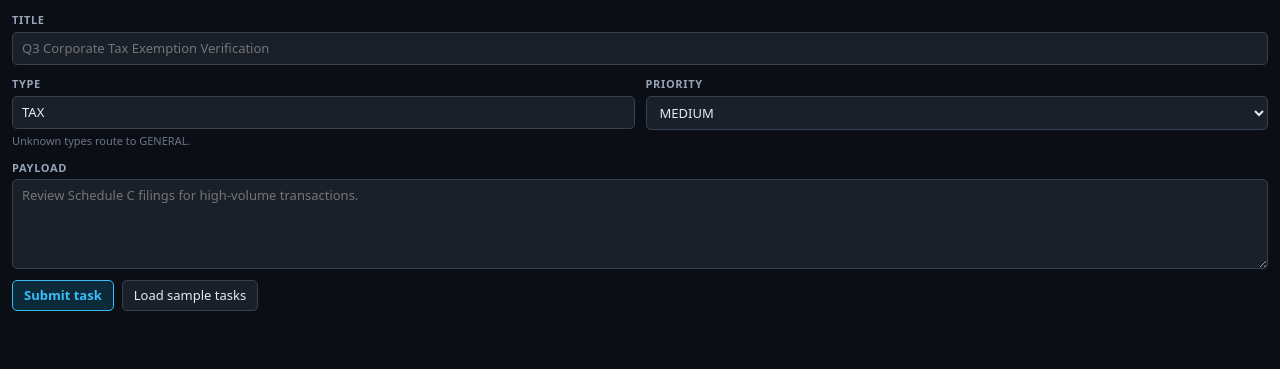
Test: TaskForm - per-field API errors › clears a field error as soon as the user edits that field
Click the button "Submit task" at point(63, 295), box top-left (12, 280), bottom-right (114, 311)
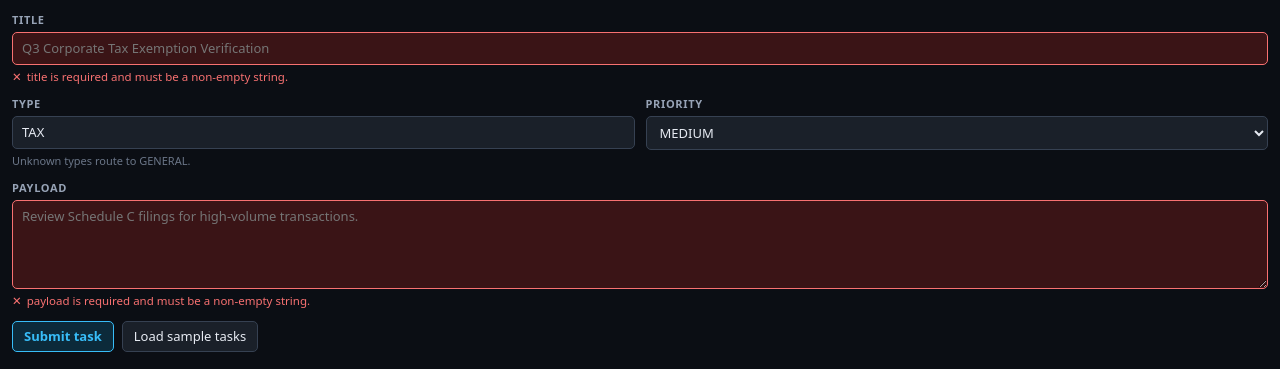
Now the text "✕ title is required and must be a non-empty string." is shown, box top-left (12, 69), bottom-right (288, 84)
Type "A" into the field labelled "Title" at point(640, 48), box top-left (12, 32), bottom-right (1268, 65)
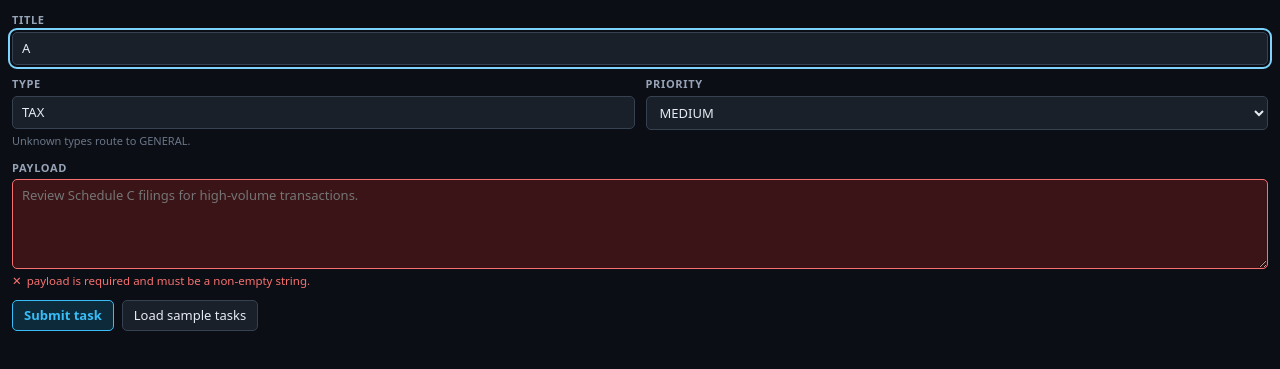
Now the text "title is required" is gone
